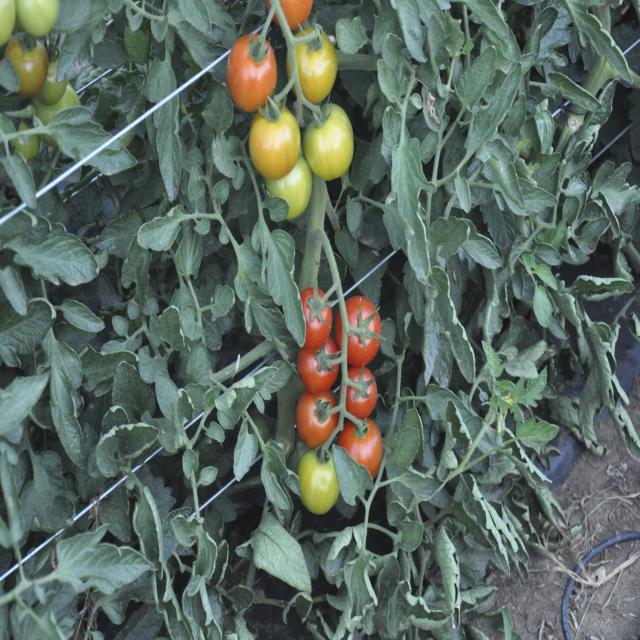tomato: (225, 29, 279, 114), (336, 295, 382, 364), (340, 416, 383, 479), (294, 389, 340, 445), (345, 366, 381, 417), (300, 342, 339, 388)
